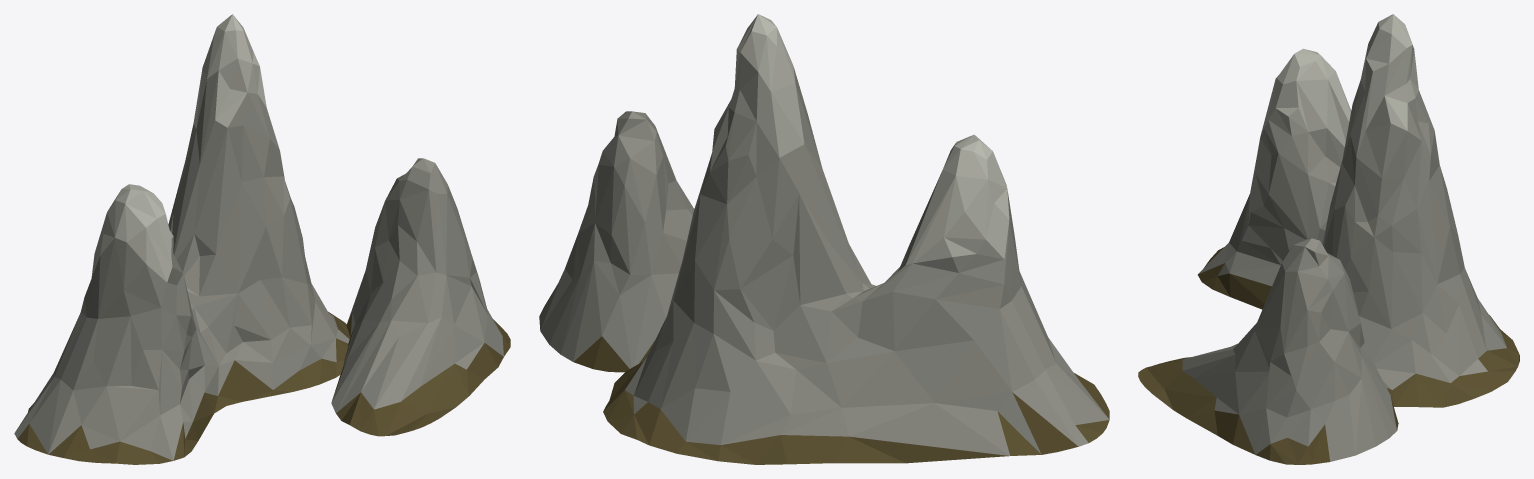
Rendered from Mountain Group.glb.
3 views of the same model, side by side, from view 1: azimuth 30°, elevation 25°; view 2: azimuth 150°, elevation 25°; view 3: azimuth 270°, elevation 25° (orthographic). The views are drawn at different scales.
Visible parts, largest first — view 1: Mountain Group; view 2: Mountain Group; view 3: Mountain Group.
Part boxes in pixels (bbox=[...]): Mountain Group: bbox=[14, 14, 510, 464]; Mountain Group: bbox=[539, 14, 1109, 464]; Mountain Group: bbox=[1138, 14, 1519, 464].
Size of the model in its own units: 5.15 by 3.52 by 3.55.
